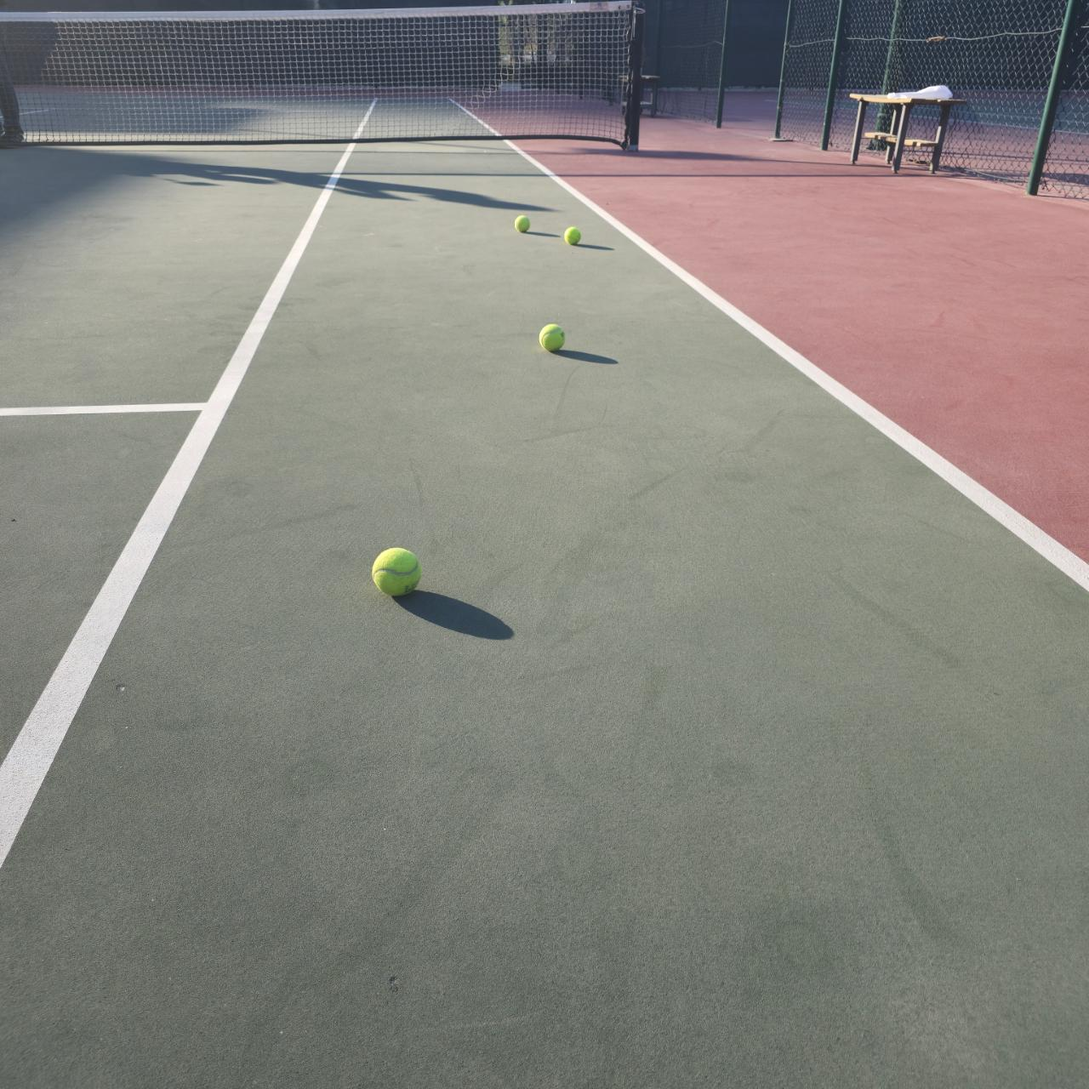tennis-ball: (369, 544, 422, 597), (537, 321, 565, 351), (562, 224, 581, 244), (512, 212, 530, 233)
